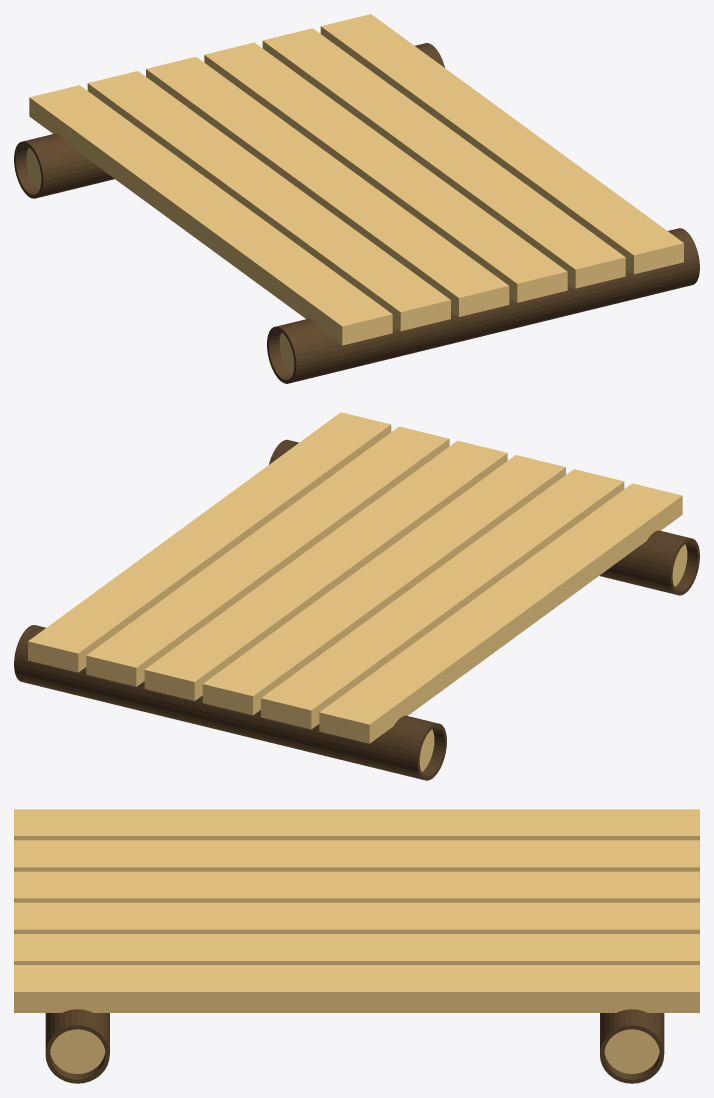
File: Lift.fbx
3 renders of one model, top to bottom at view 1: azimuth 30°, elevation 25°; view 2: azimuth 150°, elevation 25°; view 3: azimuth 270°, elevation 25°, orthographic. The views are drawn at different scales.
Parts seen in each view (by area): view 1: platform, wood.001, wood.002; view 2: platform, wood.002, wood.001; view 3: platform, wood.001, wood.002.
Boxes of the visible parts, left/top/right/bottom form: platform: left=29, top=14, right=683, bottom=345; wood.001: left=267, top=228, right=699, bottom=383; wood.002: left=14, top=43, right=444, bottom=198; platform: left=28, top=412, right=682, bottom=743; wood.002: left=14, top=625, right=446, bottom=780; wood.001: left=269, top=439, right=699, bottom=595; platform: left=14, top=809, right=699, bottom=1012; wood.001: left=45, top=1009, right=109, bottom=1083; wood.002: left=600, top=1009, right=664, bottom=1083.
Bounding box in the file's own units: 358 × 58.38 × 481.
